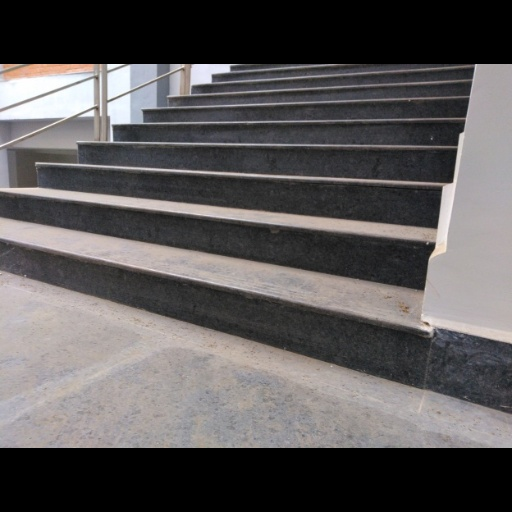Stairs: (0, 66, 463, 387)
